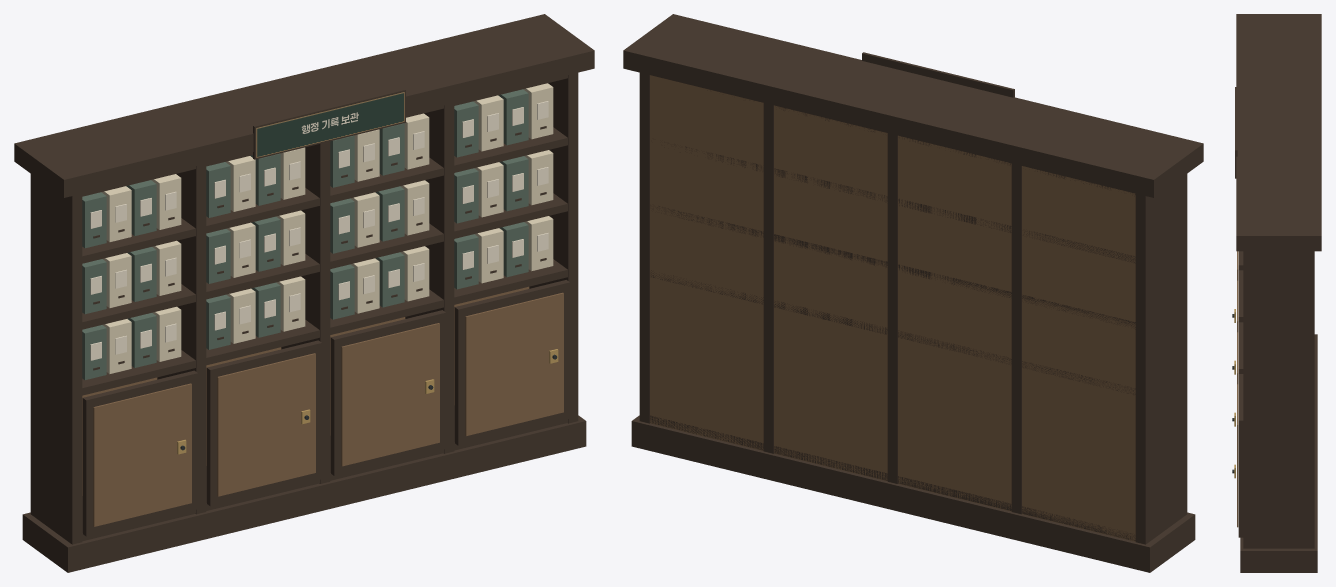
Rendered from 05_Grand_Records_Wall.fbx.
The picture shows the model from 3 angles, left to right: view 1: azimuth 30°, elevation 25°; view 2: azimuth 150°, elevation 25°; view 3: azimuth 270°, elevation 25°; orthographic projection. The views are drawn at different scales.
Parts seen in each view (by area): view 1: 05_Grand_Records_Wall__Structure, 05_Grand_Records_Wall; view 2: 05_Grand_Records_Wall__Structure; view 3: 05_Grand_Records_Wall__Structure, 05_Grand_Records_Wall.
Boxes of the visible parts, bbox=[...] form: 05_Grand_Records_Wall__Structure: bbox=[14, 14, 594, 572]; 05_Grand_Records_Wall: bbox=[82, 280, 569, 536]; 05_Grand_Records_Wall__Structure: bbox=[623, 14, 1203, 572]; 05_Grand_Records_Wall__Structure: bbox=[1235, 14, 1321, 572]; 05_Grand_Records_Wall: bbox=[1232, 251, 1243, 537].
Size of the model in its own units: 522 by 380 by 89.1.
Materials: 2 (2 with a texture image).
